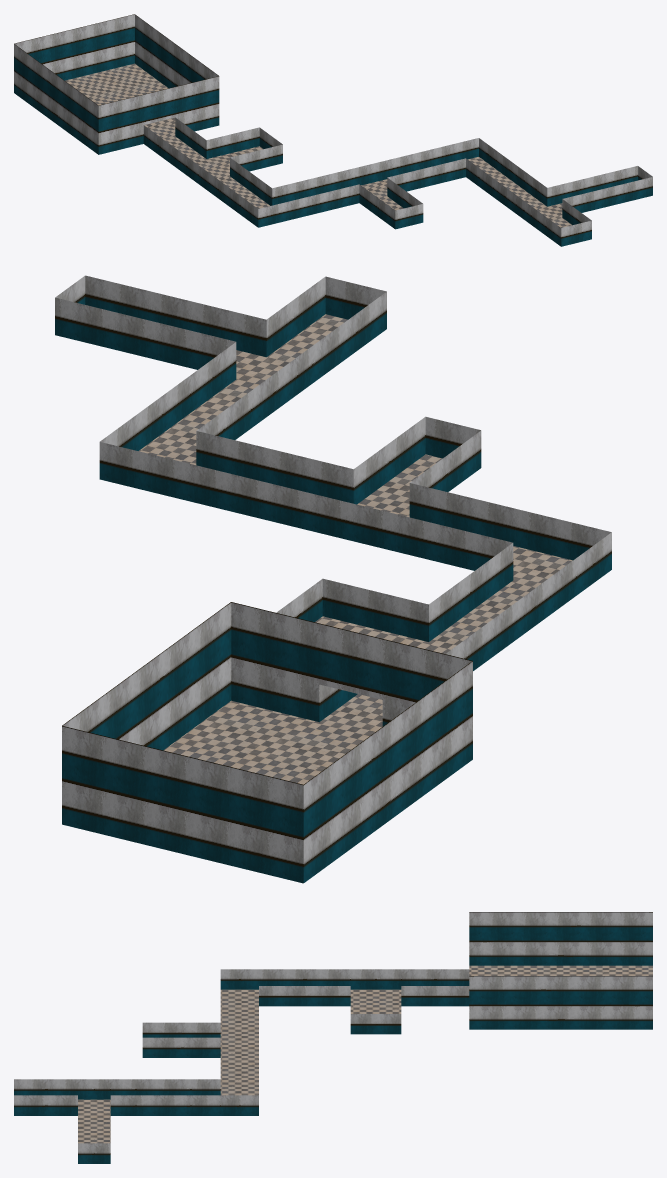
File: Level01.fbx
The picture shows the model from 3 angles, top to bottom: view 1: azimuth 30°, elevation 25°; view 2: azimuth 150°, elevation 25°; view 3: azimuth 270°, elevation 25°; orthographic projection. The views are drawn at different scales.
Visible parts, largest first — view 1: Box002, floor01; view 2: Box002, floor01; view 3: Box002, floor01.
Boxes of the visible parts, x1=… form: Box002: x1=14, y1=14, x2=652, y2=246; floor01: x1=65, y1=63, x2=571, y2=227; Box002: x1=55, y1=275, x2=611, y2=883; floor01: x1=138, y1=314, x2=572, y2=784; Box002: x1=14, y1=912, x2=652, y2=1163; floor01: x1=78, y1=965, x2=652, y2=1143.
Size of the model in its own units: 7140 by 901 by 9733.
2 materials, 2 textured.
